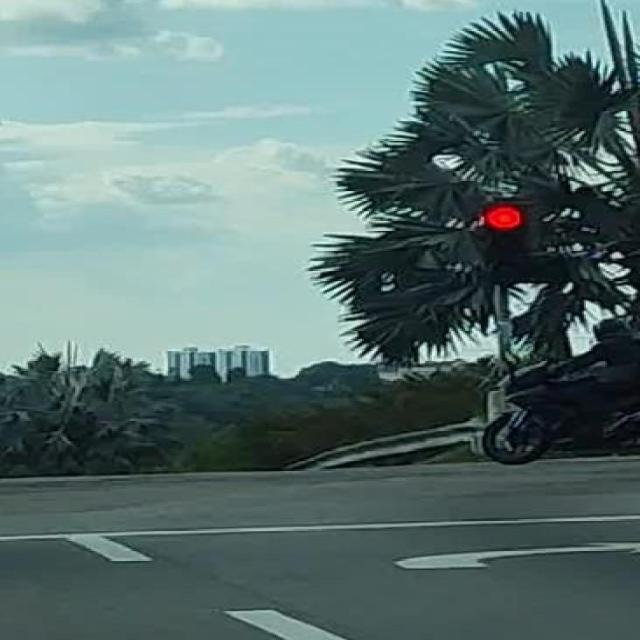bike: (481, 361, 640, 466)
traffic light: (473, 199, 534, 237)
